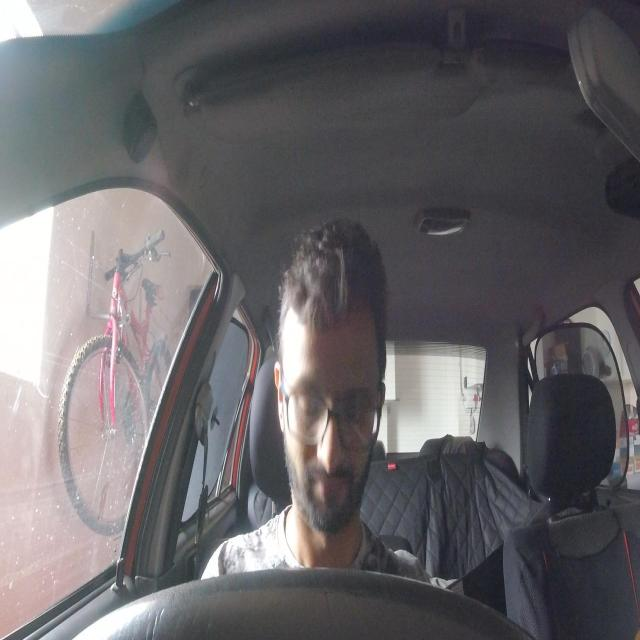close: (289, 374, 328, 431)
